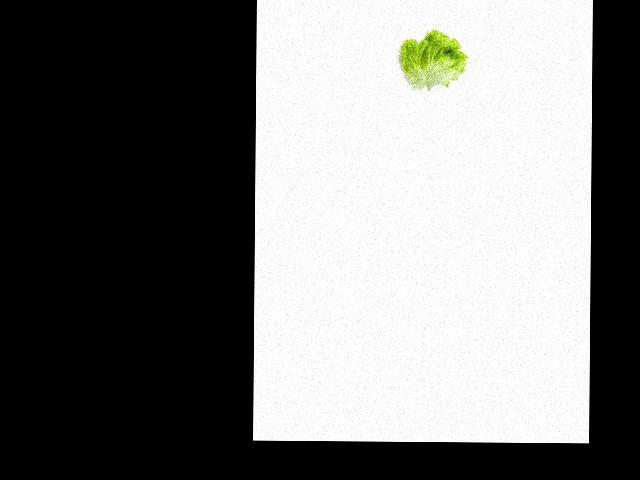lettuce: (393, 32, 469, 92)
